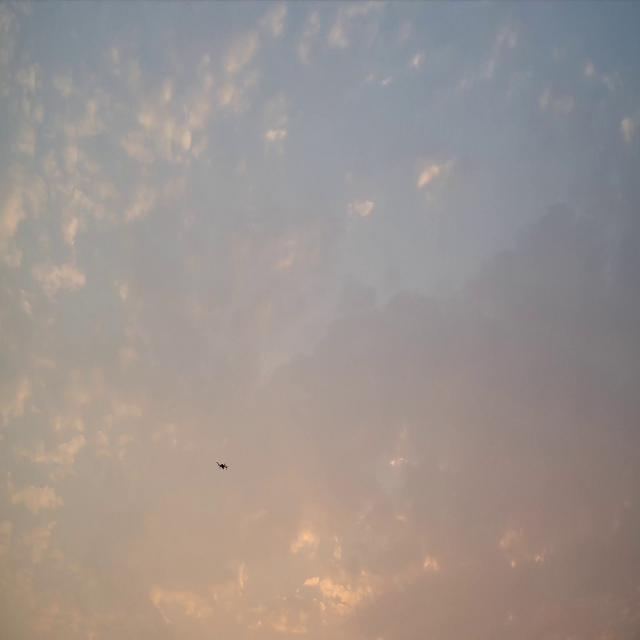UAV: (216, 461, 228, 470)
